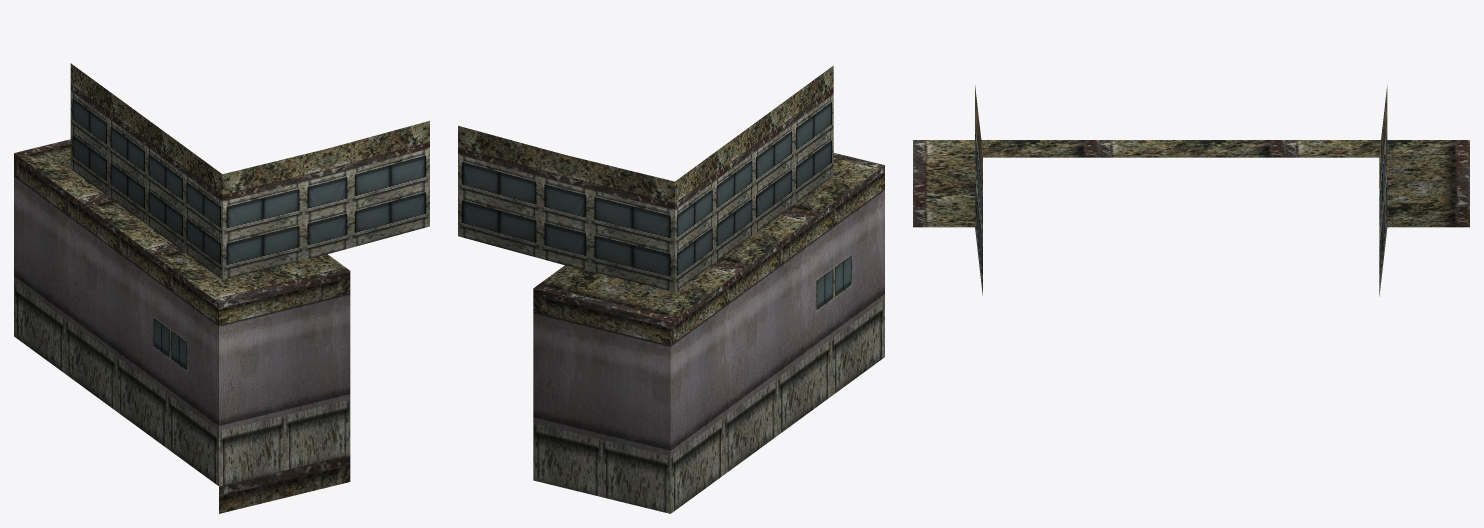
File: M10_Z01_18_Tower.glb
The picture shows the model from 3 angles, left to right: view 1: azimuth 30°, elevation 25°; view 2: azimuth 150°, elevation 25°; view 3: azimuth 270°, elevation 25°; orthographic projection. The views are drawn at different scales.
Parts seen in each view (by area): view 1: M10_Z01_18_TOWER; view 2: M10_Z01_18_TOWER; view 3: M10_Z01_18_TOWER.
Part boxes in pixels (bbox=[...]): M10_Z01_18_TOWER: bbox=[14, 63, 429, 513]; M10_Z01_18_TOWER: bbox=[458, 65, 884, 513]; M10_Z01_18_TOWER: bbox=[913, 85, 1469, 296].
Size of the model in its own units: 9 by 11.51 by 13.5.
Materials: 3 (3 with a texture image).
